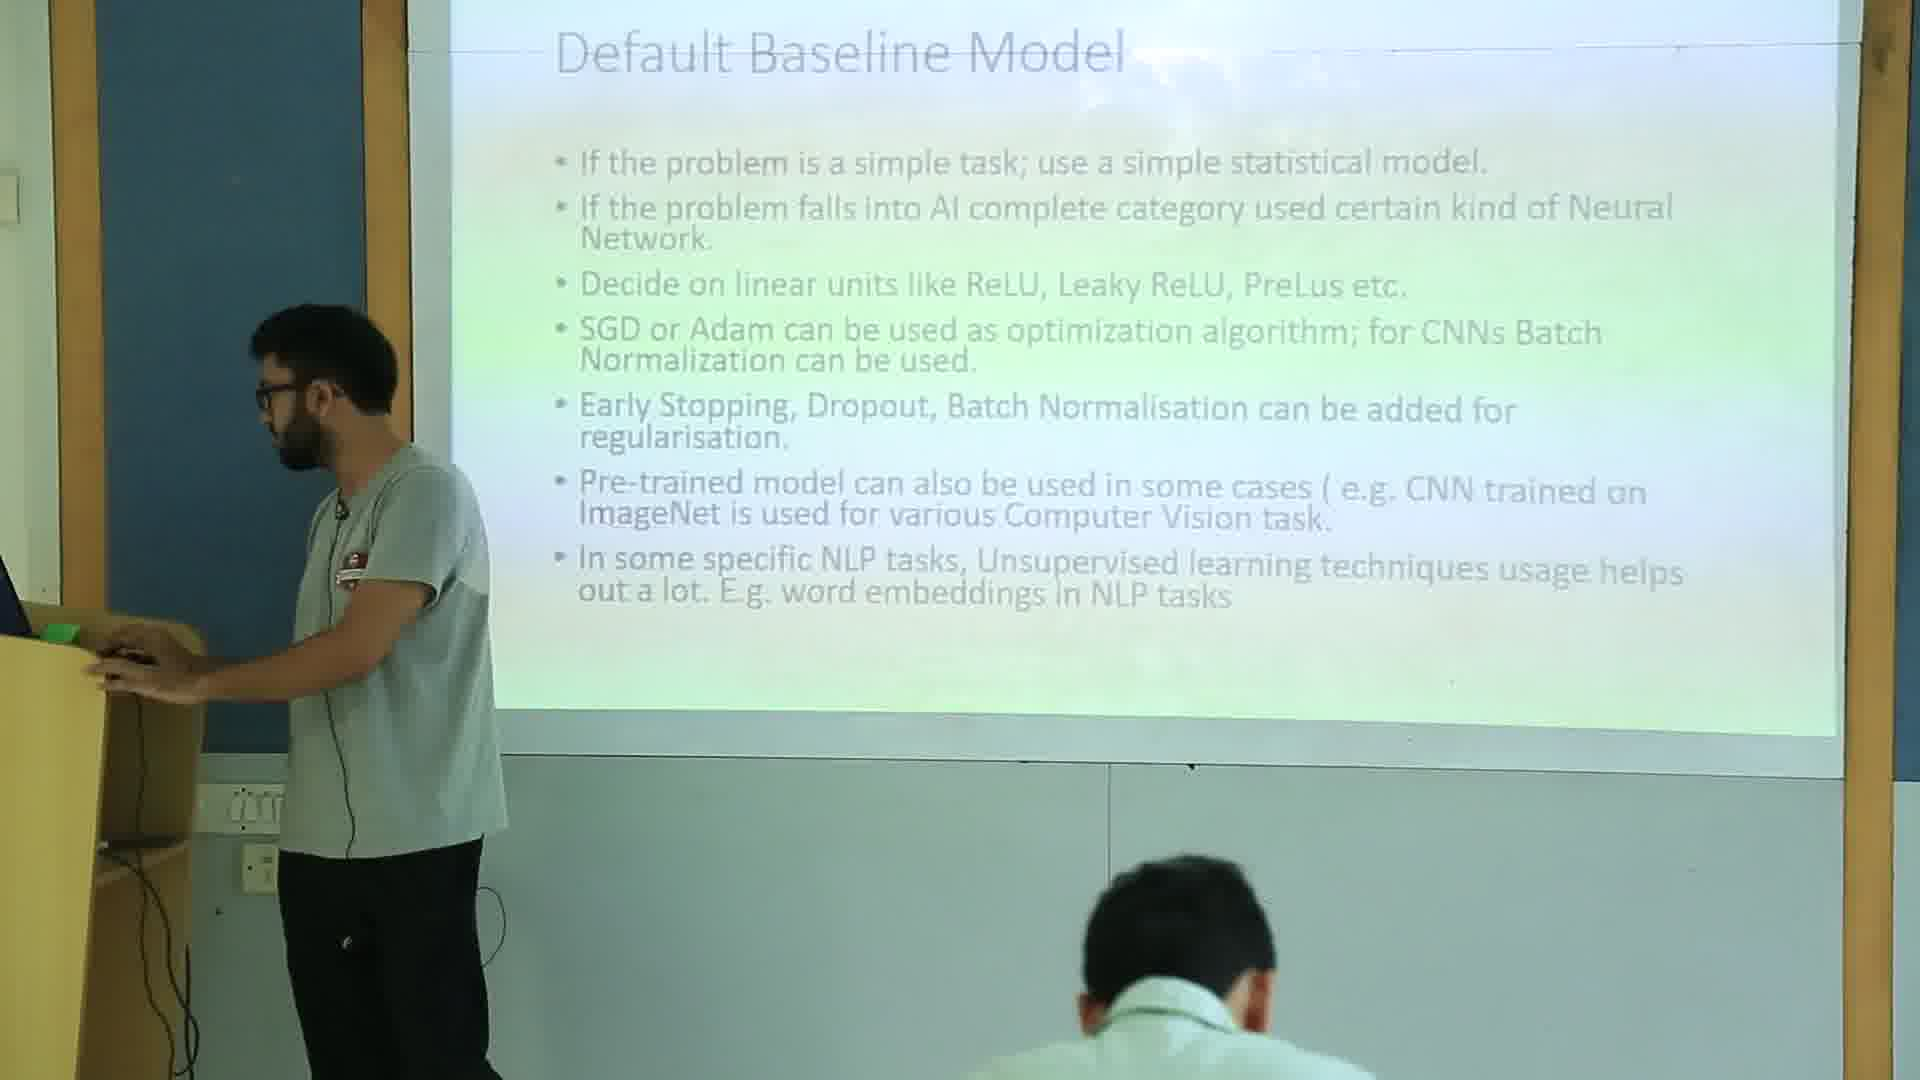slide: (454, 3, 1840, 736)
